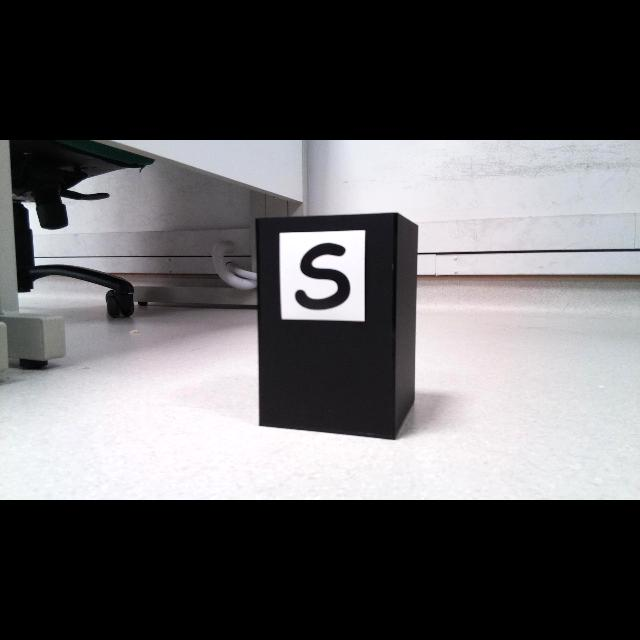S: (293, 243, 350, 311)
